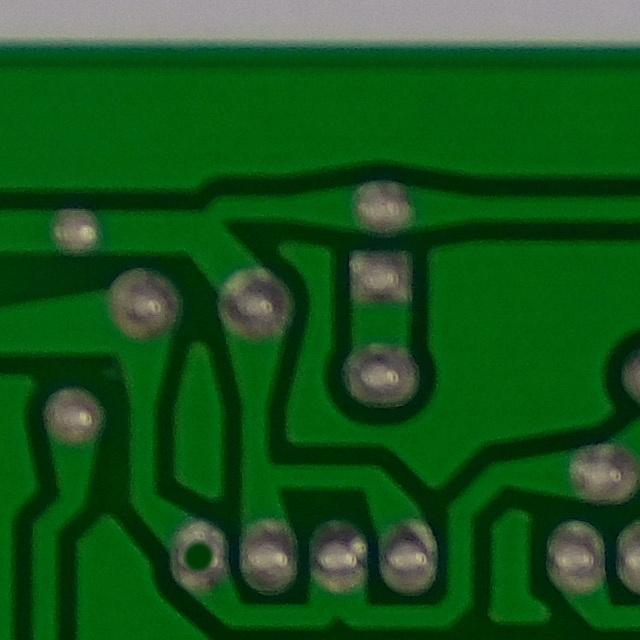missing_hole: (152, 508, 237, 598)
